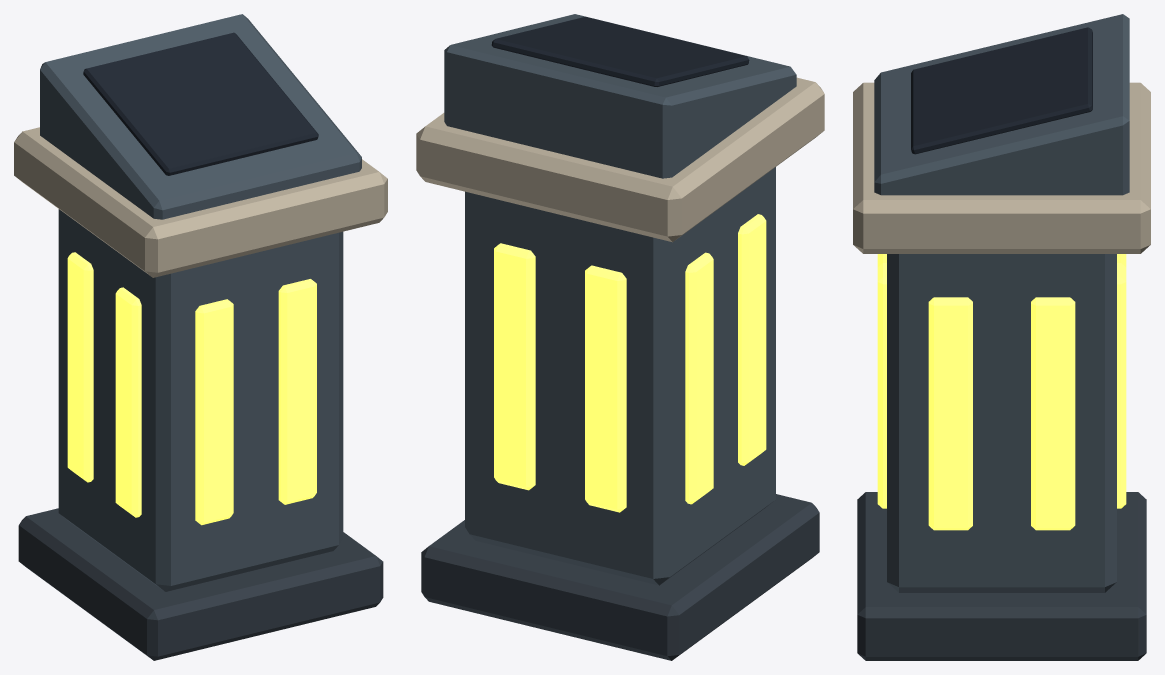
The model's file is Court_KioskBollard.fbx.
3 renders of one model, left to right at view 1: azimuth 30°, elevation 25°; view 2: azimuth 150°, elevation 25°; view 3: azimuth 270°, elevation 25°, orthographic. The views are drawn at different scales.
Visible parts, largest first — view 1: Frame, Glow, FrameDark, Concrete, Screen; view 2: Frame, Glow, FrameDark, Concrete, Screen; view 3: Frame, Glow, FrameDark, Concrete, Screen.
Part boxes in pixels (x1,y1,x2,y2): Frame: (40,14,361,591); Glow: (67,252,316,525); FrameDark: (18,508,383,660); Concrete: (14,127,387,277); Screen: (83,32,318,175); Frame: (444,14,796,585); Glow: (494,214,766,512); FrameDark: (421,494,819,660); Concrete: (416,77,824,242); Screen: (491,16,749,86); Frame: (874,14,1129,592); Glow: (877,254,1126,530); FrameDark: (857,492,1146,660); Concrete: (853,82,1150,253); Screen: (911,27,1092,154).
Bounding box in the file's own units: 1.75 × 3.49 × 1.75.
